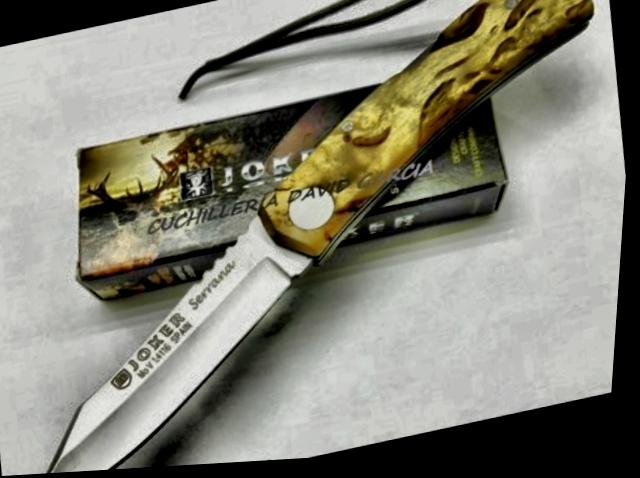knife: (0, 182, 358, 477)
